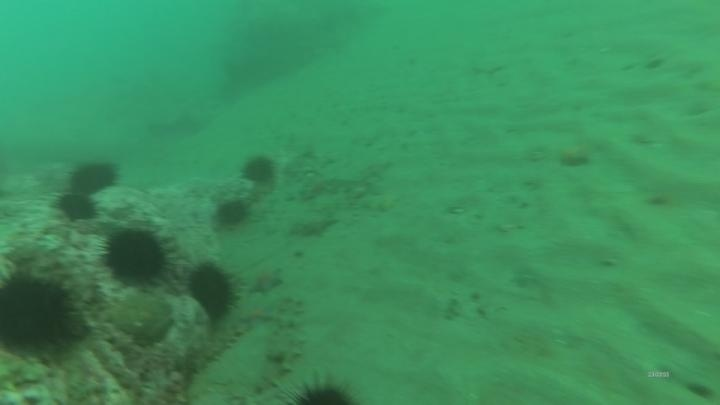echinus: (0, 266, 83, 359), (98, 224, 175, 290), (185, 259, 241, 323), (282, 369, 362, 405), (67, 158, 121, 196), (54, 190, 99, 224), (239, 152, 278, 187), (213, 197, 251, 230)
holothurian: (248, 294, 308, 398), (178, 315, 251, 378)
starfish: (246, 264, 286, 298), (237, 298, 279, 330)
